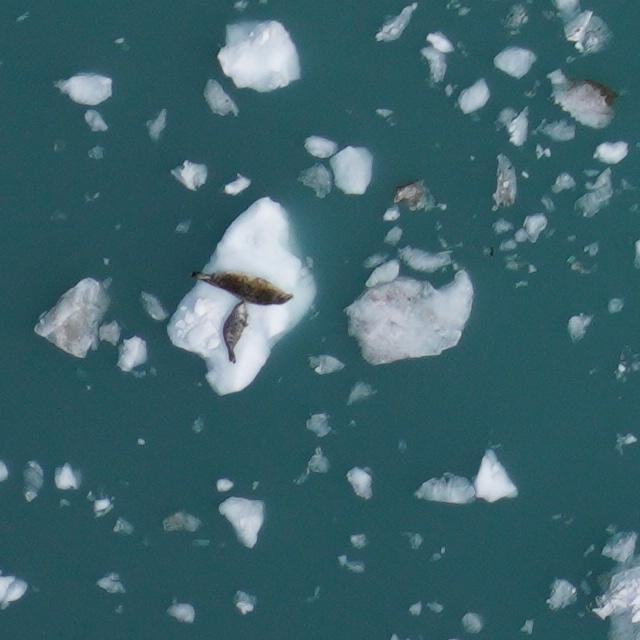seal: (188, 251, 297, 319), (213, 298, 254, 363)
